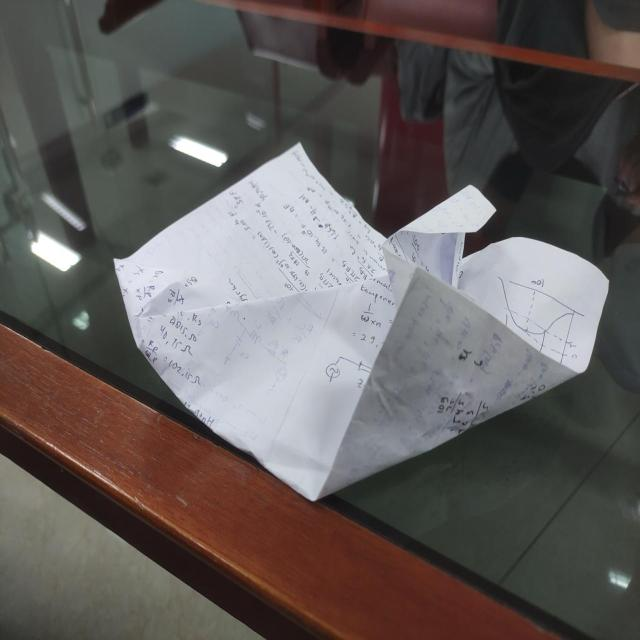KertasBekas: (112, 141, 609, 502)
